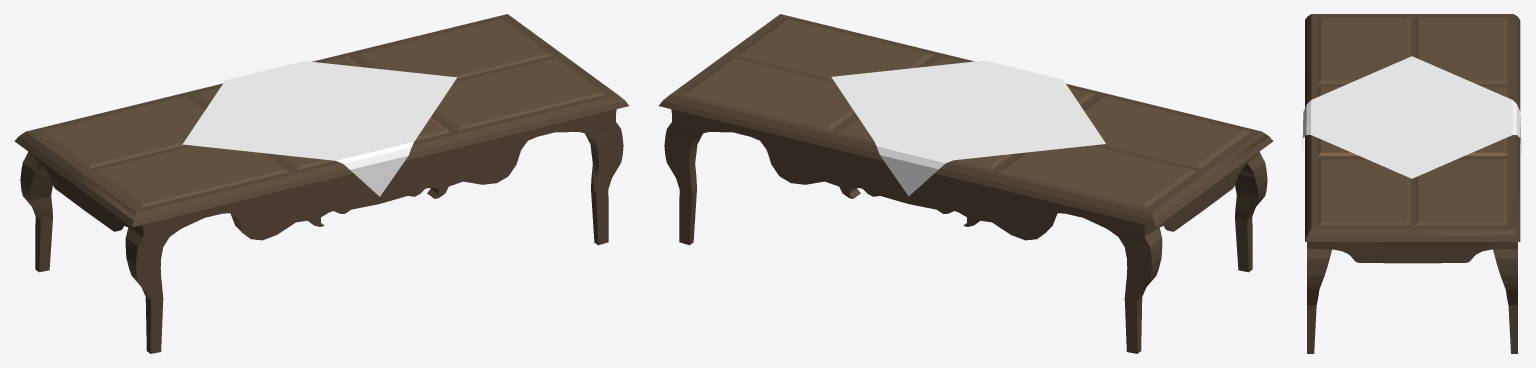
File: SM_Table_04.glb
3 views of the same model, side by side, from view 1: azimuth 30°, elevation 25°; view 2: azimuth 150°, elevation 25°; view 3: azimuth 270°, elevation 25° (orthographic). The views are drawn at different scales.
Parts seen in each view (by area): view 1: SM_Table_04; view 2: SM_Table_04; view 3: SM_Table_04.
Boxes of the visible parts, <box> form: SM_Table_04: <box>14,14,628,353</box>; SM_Table_04: <box>659,14,1273,353</box>; SM_Table_04: <box>1302,14,1521,353</box>.
Bounding box in the file's own units: 2.09 × 0.5884 × 0.8744.
Materials: 1 (1 with a texture image).
